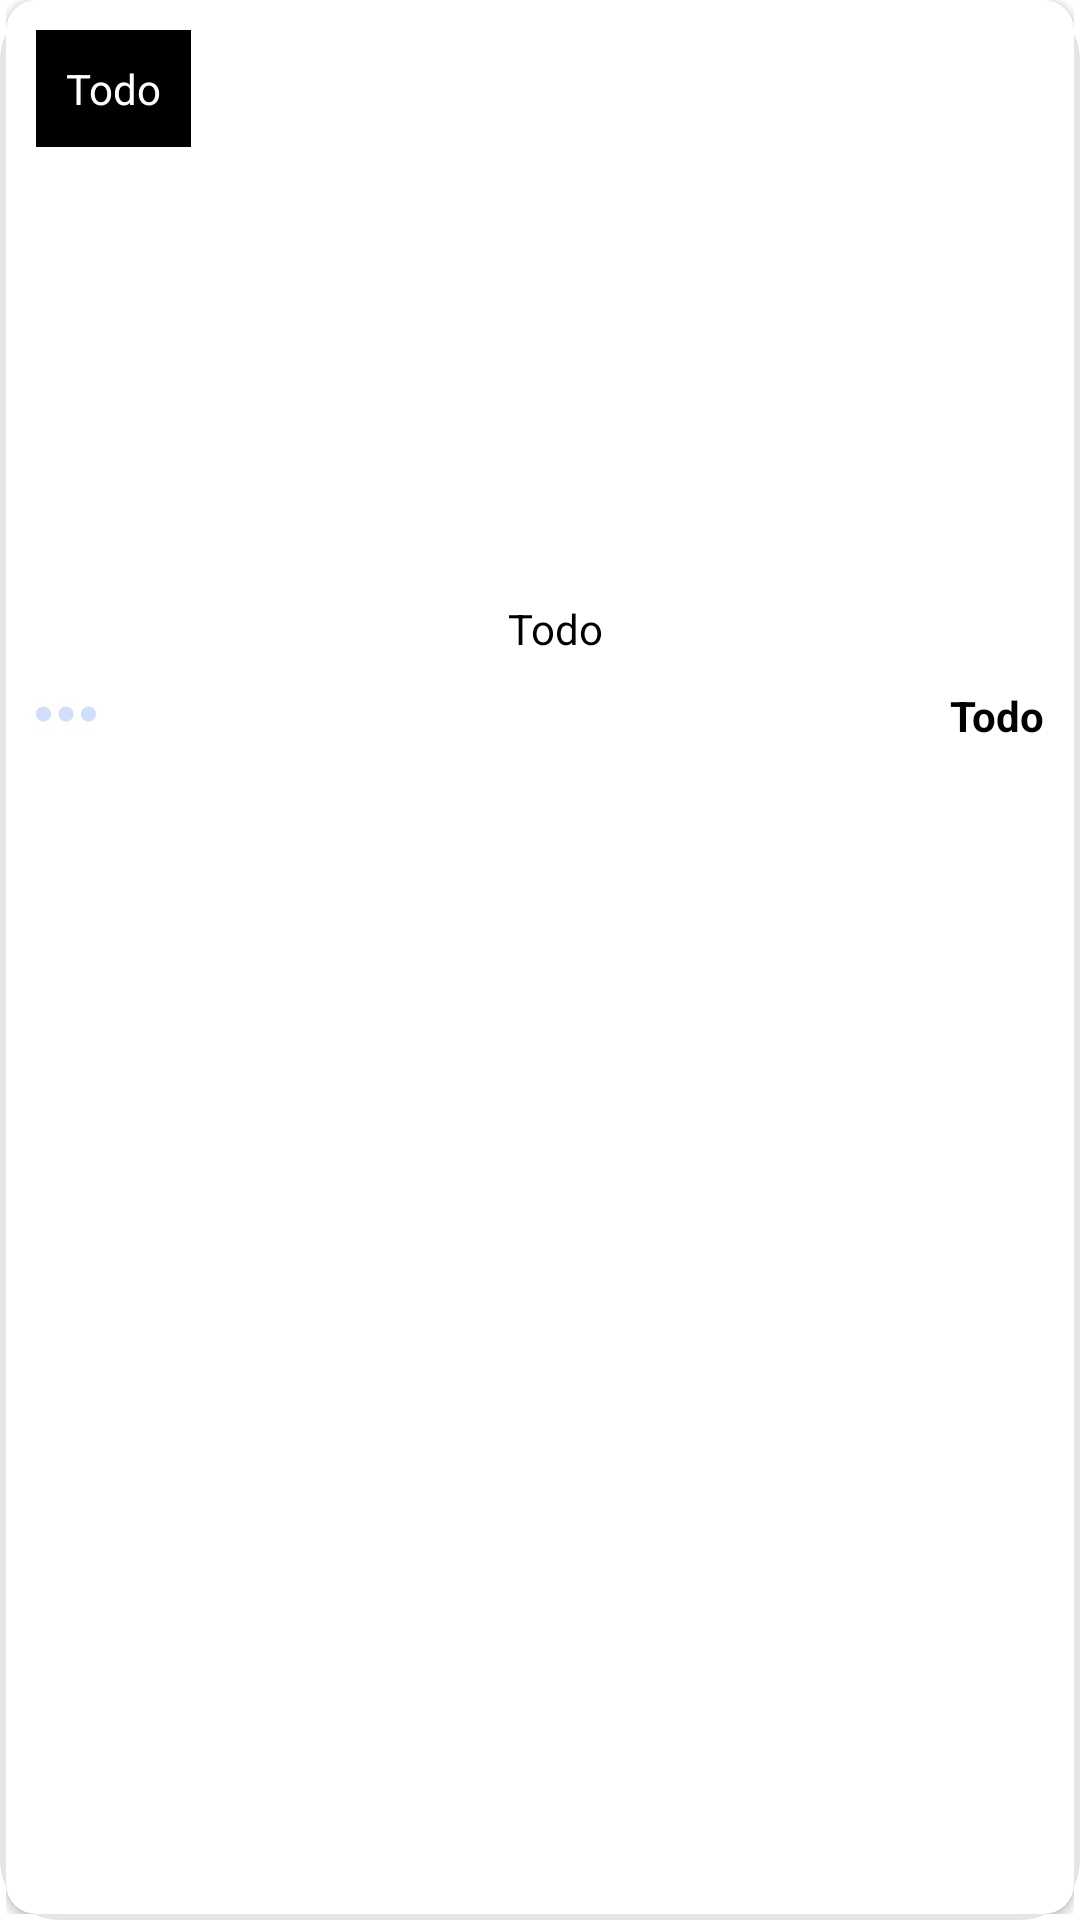

Icon click points for this 1080×1920 phone screenshot, format point (x, y):
more menu: point (66, 714)
